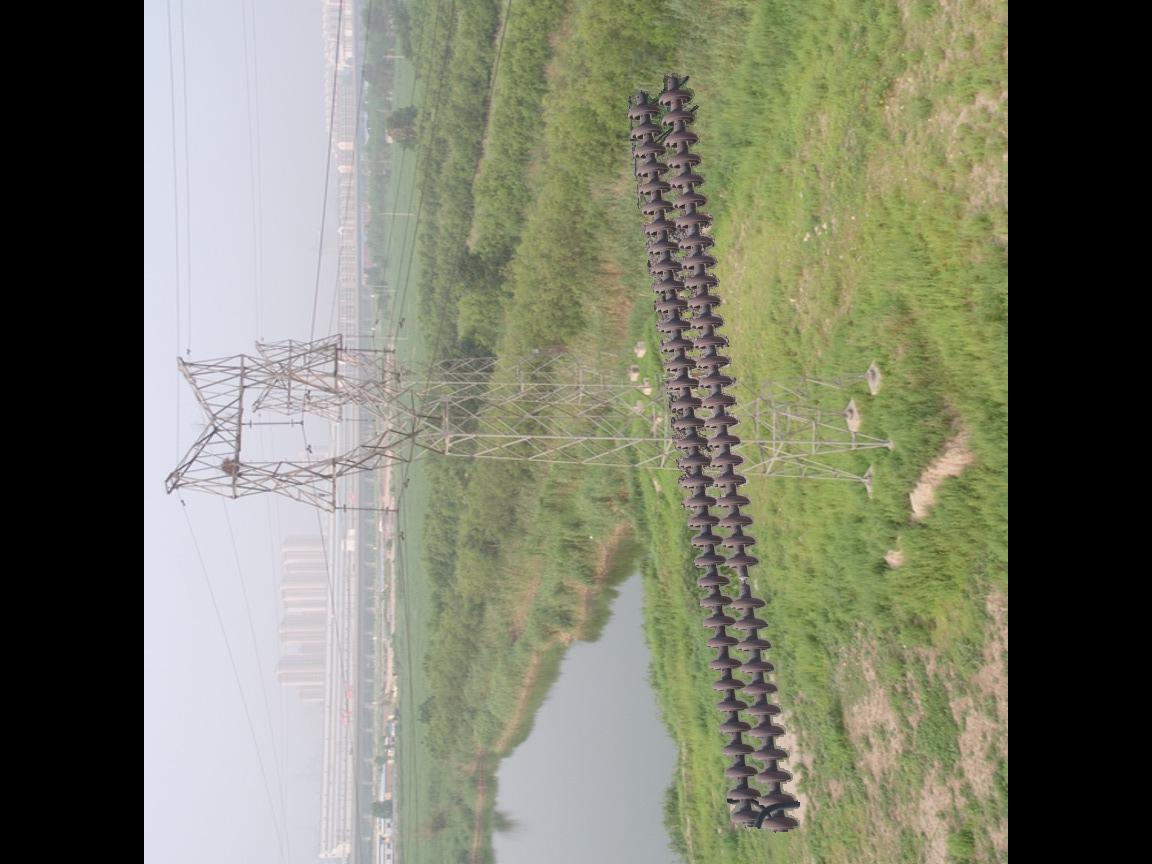insulator: (615, 70, 805, 841)
insulator_stringdrop: (720, 553, 768, 615)
